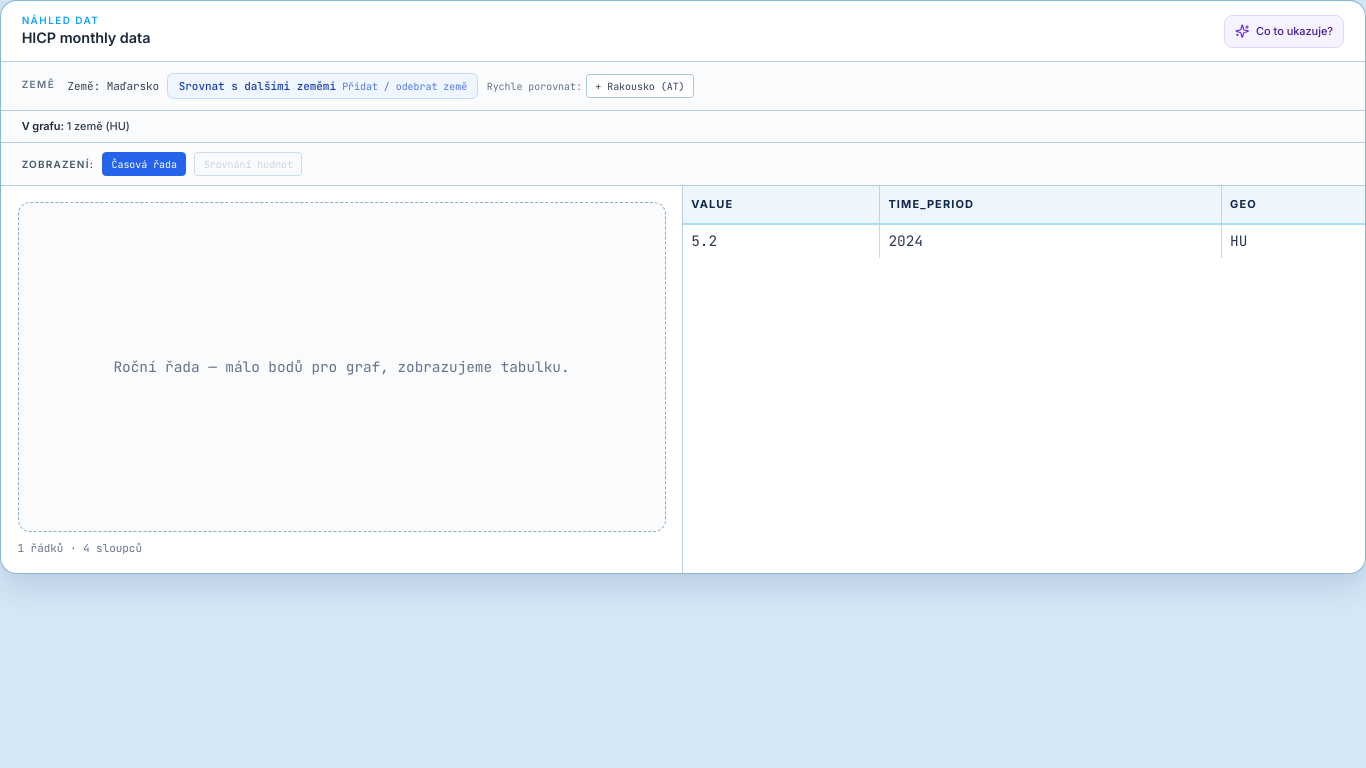
Scenario: SourcePreview Eurostat filter UX › reopens geo selector after applying CY and HU and keeps change action visible
Click the button "Srovnat s dalšími zeměmi Přidat / odebrat země" at (323, 86), box [167,73,478,100]
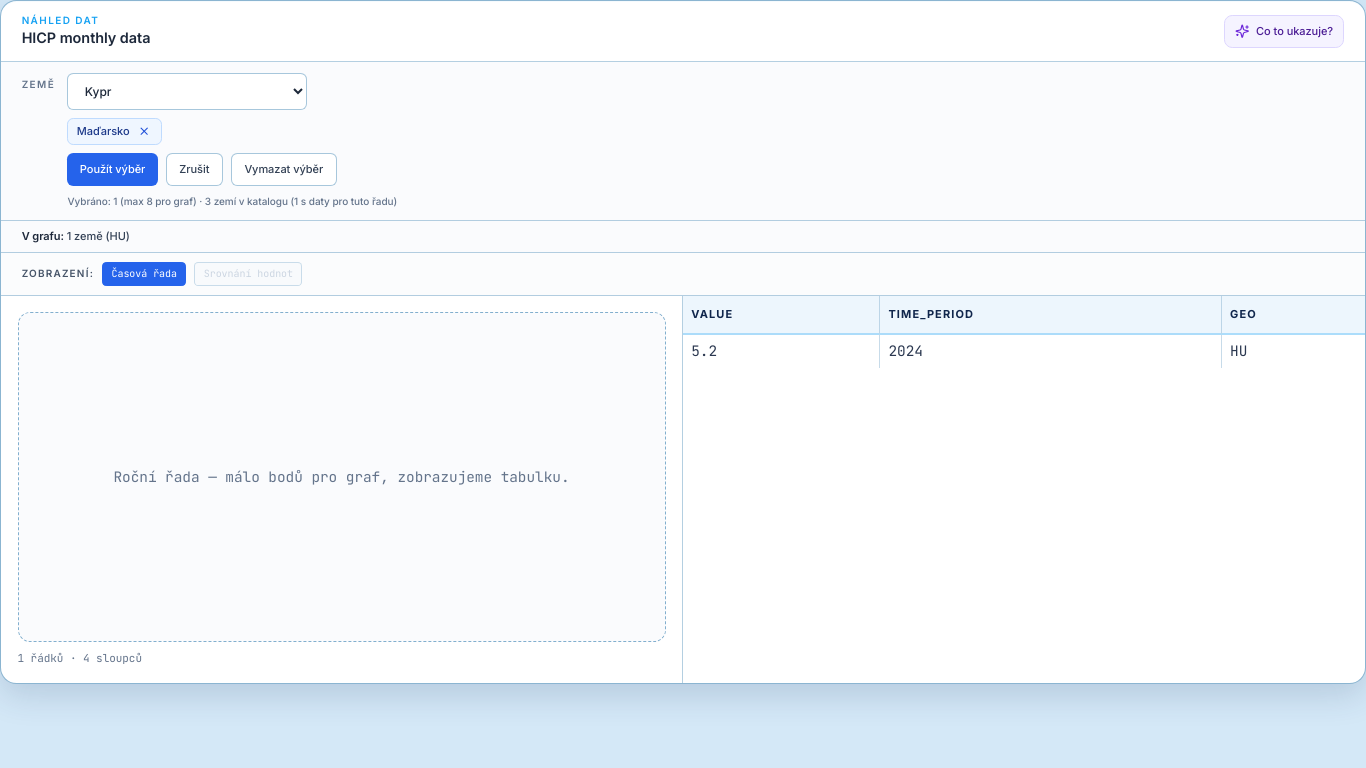
Check: the dropdown is shown
Select "Kypr" in the dropdown at (188, 91), box [68,73,308,110]
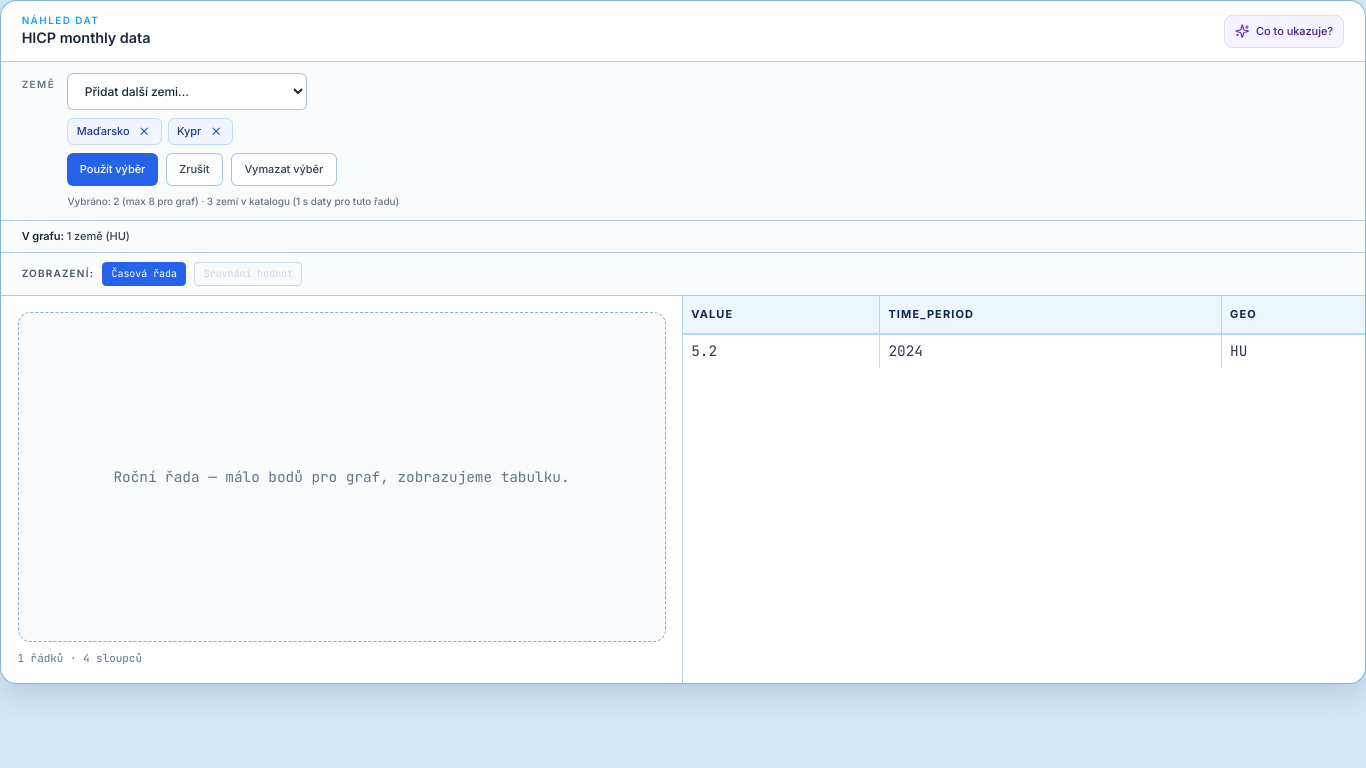
Check: the button "Použít výběr" is shown
Click the button "Použít výběr" at (113, 170), box [68,153,158,186]
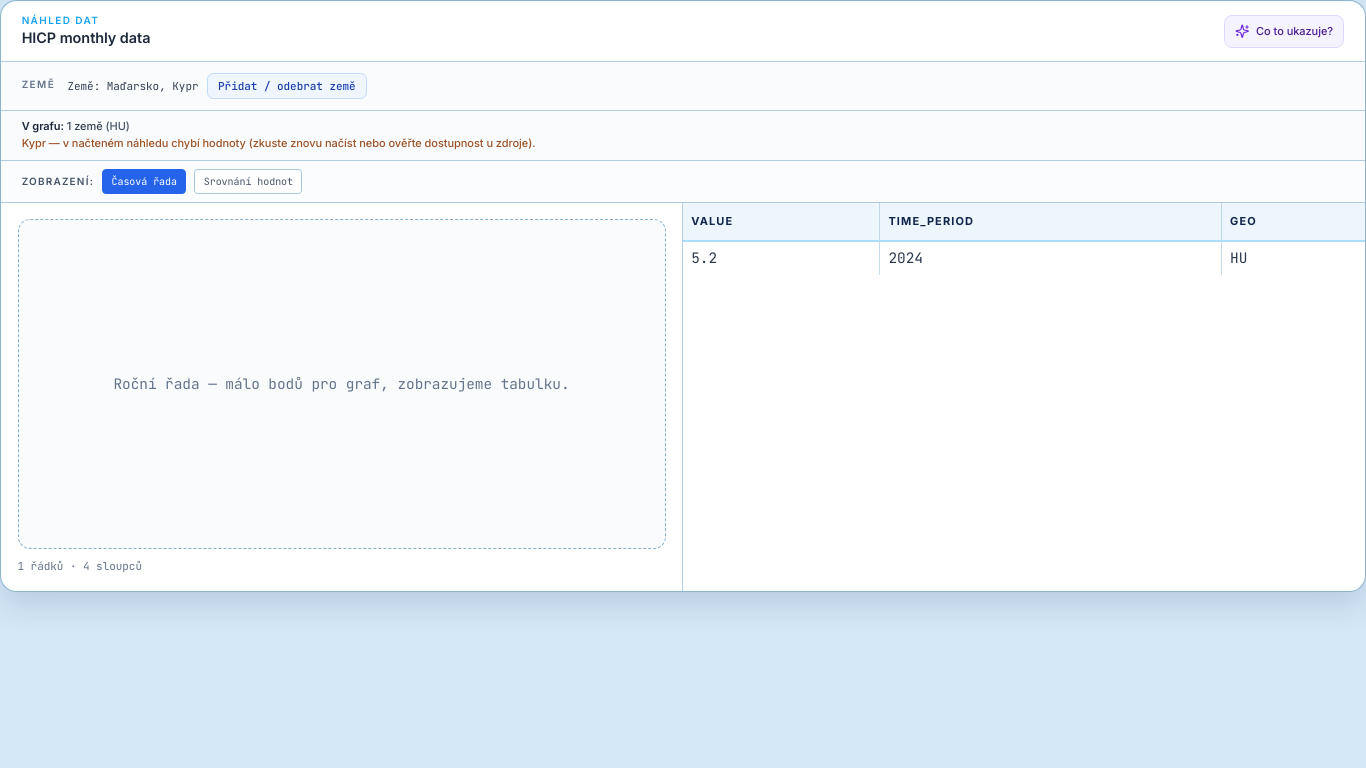
Check: the text "Přidat / odebrat země" is shown, box [207,73,367,100]
